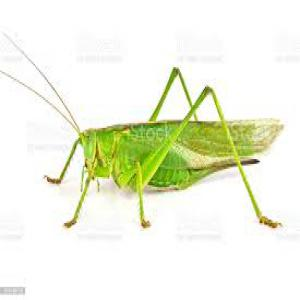locust: (46, 76, 300, 211)
